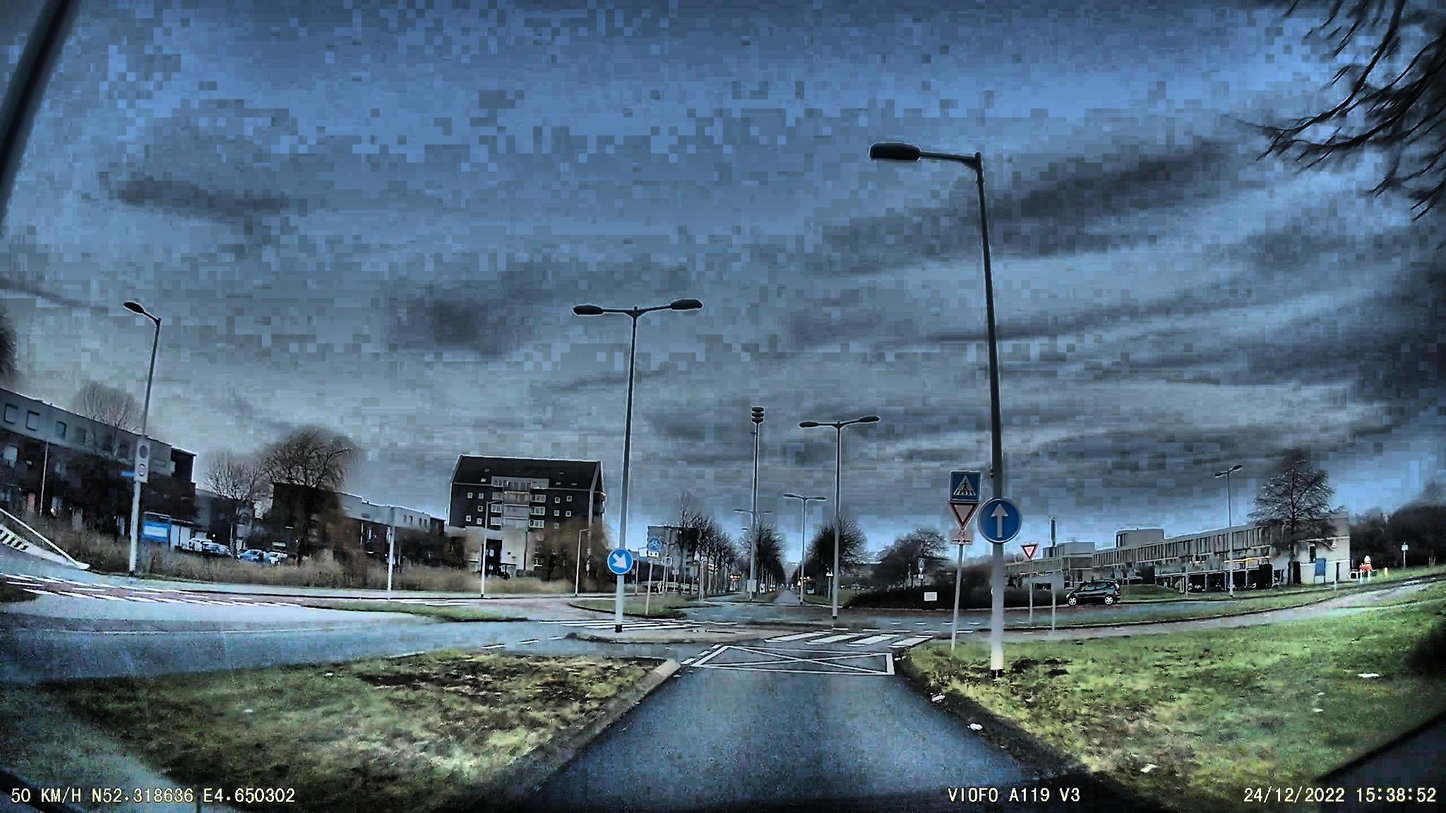Roads: (517, 627, 1130, 813)
